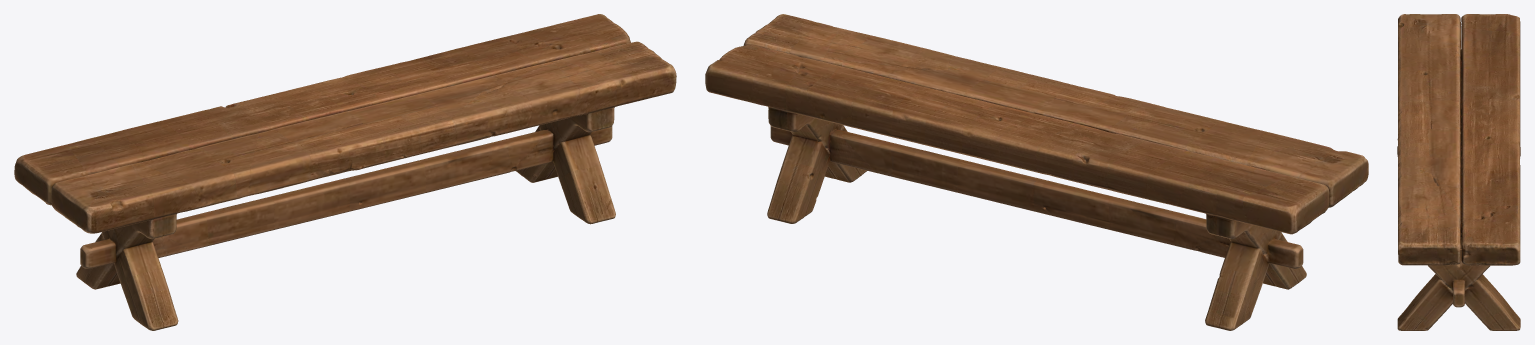
File: wooden-bench-b.glb
The picture shows the model from 3 angles, left to right: view 1: azimuth 30°, elevation 25°; view 2: azimuth 150°, elevation 25°; view 3: azimuth 270°, elevation 25°; orthographic projection. The views are drawn at different scales.
Visible parts, largest first — view 1: mesh_node; view 2: mesh_node; view 3: mesh_node.
Boxes of the visible parts, x1,y1,x2,y2 form: mesh_node: [14, 14, 676, 330]; mesh_node: [705, 14, 1368, 330]; mesh_node: [1397, 14, 1520, 330].
Bounding box in the file's own units: 1.9 × 0.4219 × 0.4256.
Materials: 1 (1 with a texture image).
